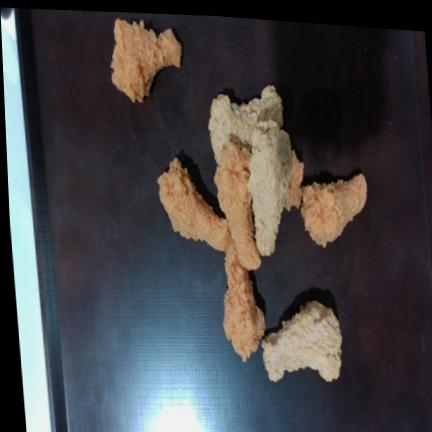chicken: (158, 158, 230, 250), (263, 301, 341, 381), (248, 121, 293, 255), (111, 19, 181, 102), (209, 85, 283, 163), (215, 142, 260, 270), (223, 239, 265, 362), (301, 174, 367, 247)
